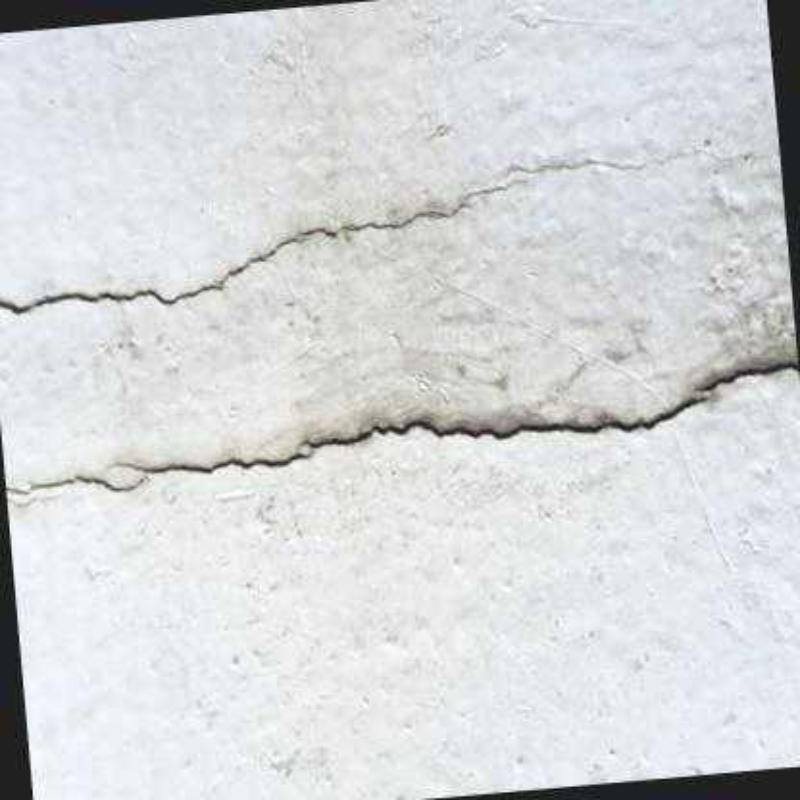pothole: (6, 360, 799, 507), (0, 176, 524, 315)
